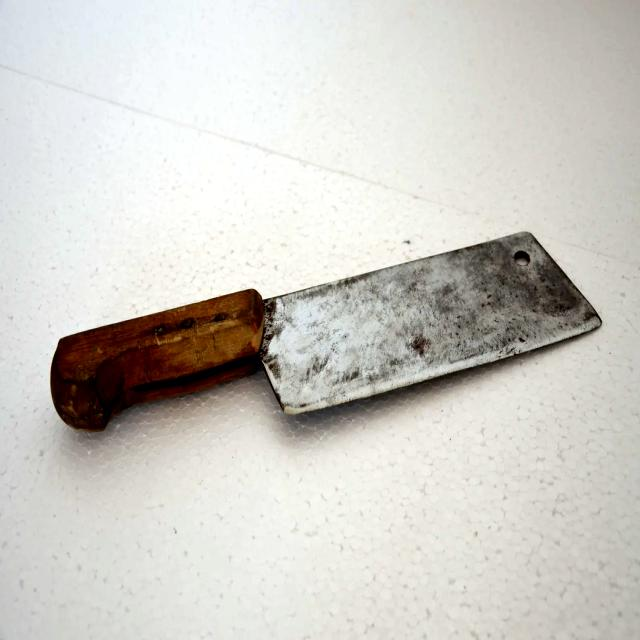cleaver: (45, 235, 604, 431)
